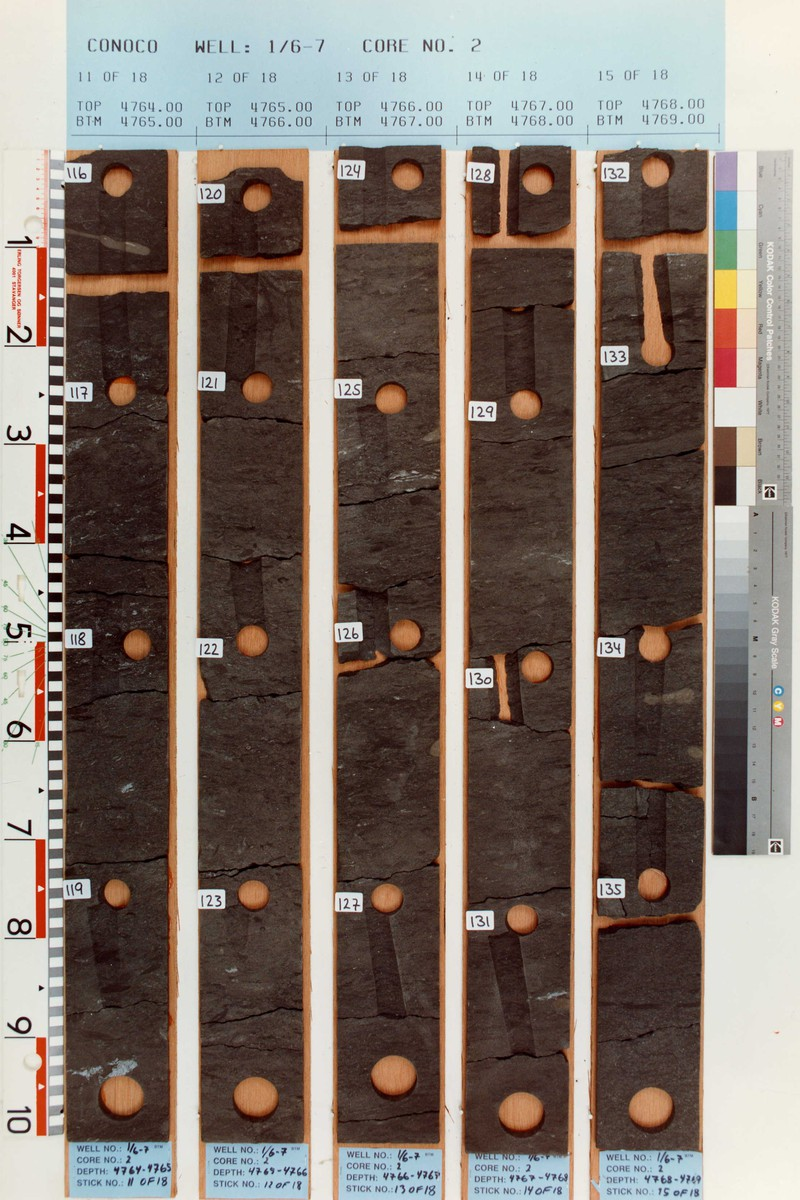core: (331, 143, 444, 1145), (195, 166, 308, 1145), (465, 143, 573, 1154), (598, 148, 704, 1150), (66, 152, 170, 1143)
